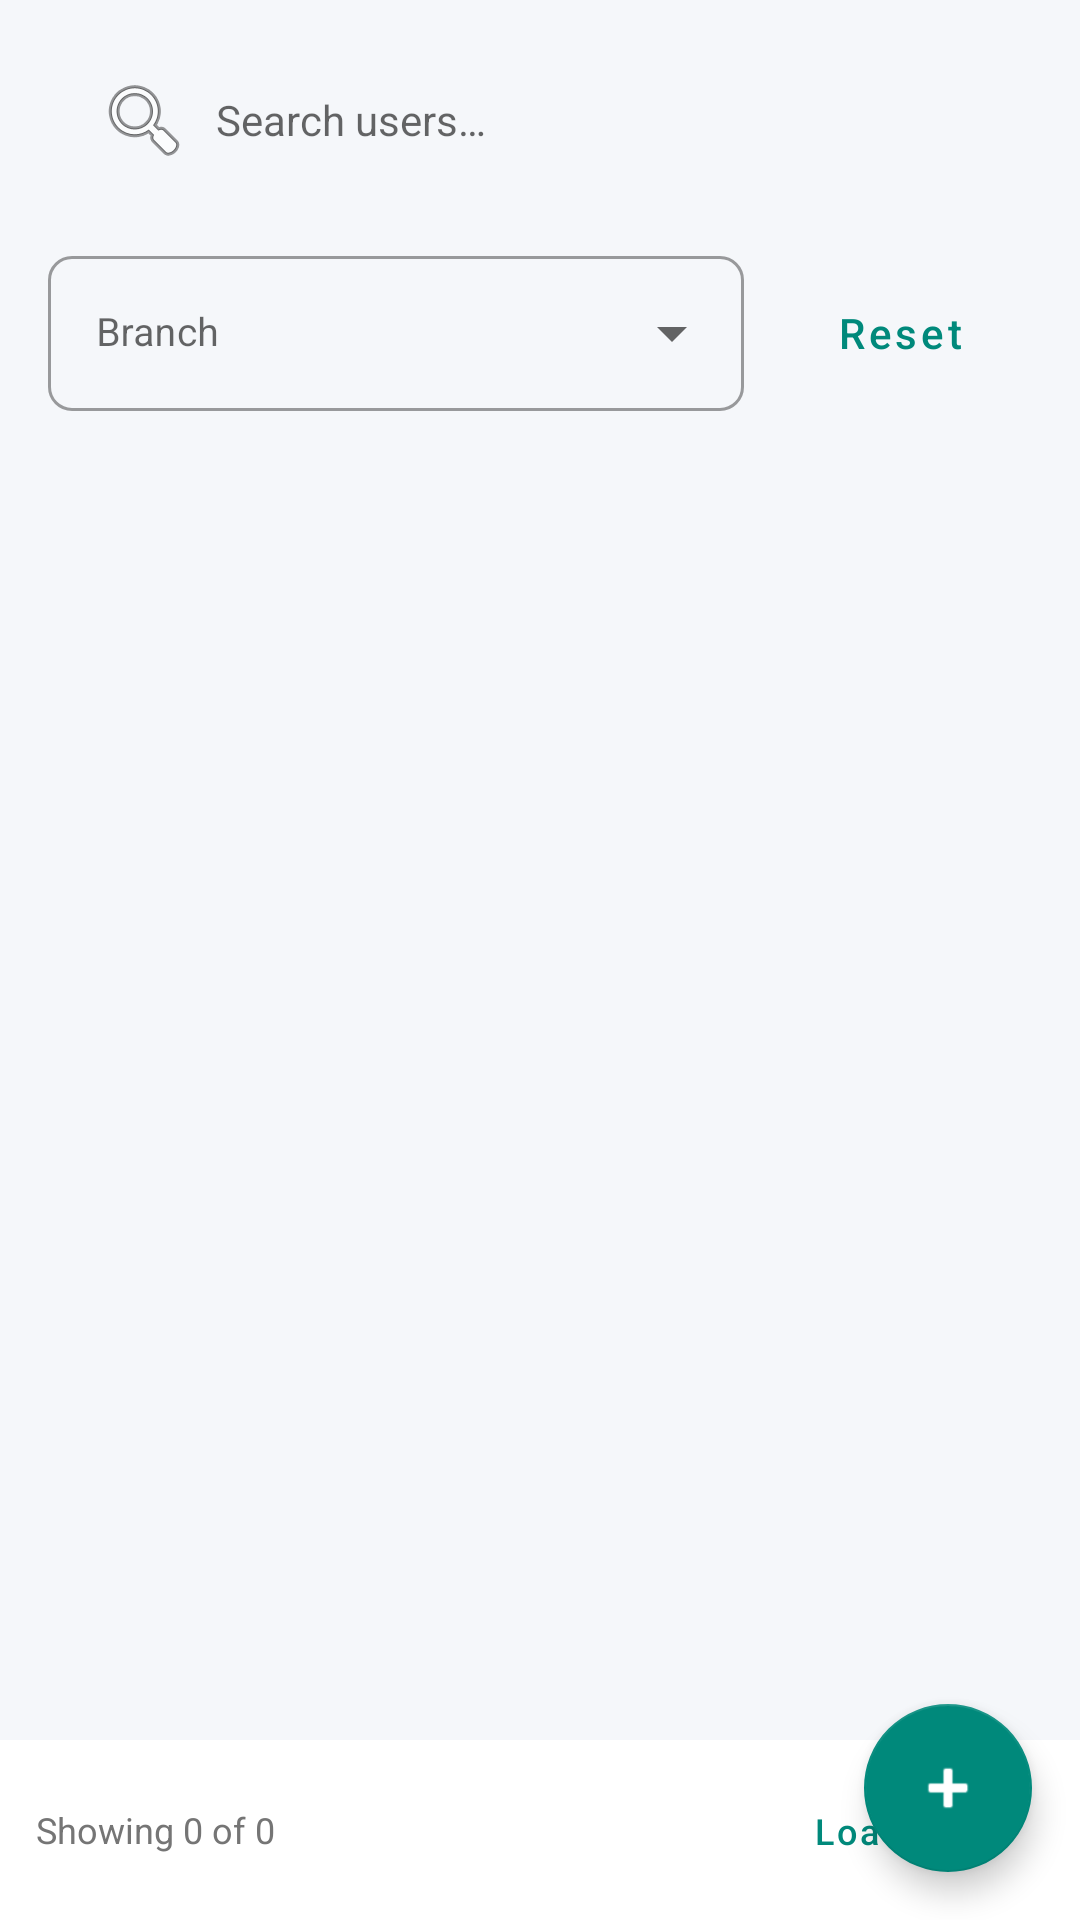

Named icons in this screenshot (1080px×1920px) and their centers, (x,y):
Add New: (948,1788)
